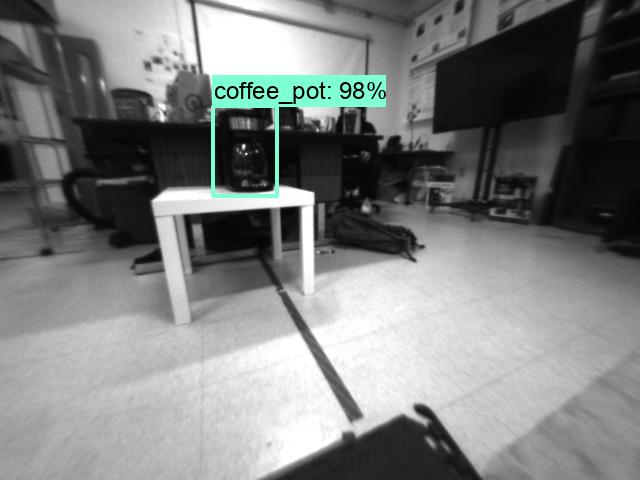coffee_pot: (214, 107, 275, 196)
